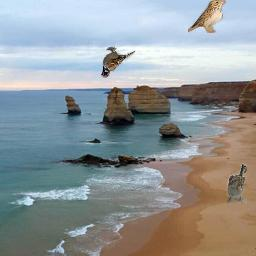Sparrow: (188, 0, 226, 33), (100, 46, 135, 78), (226, 163, 247, 203)
